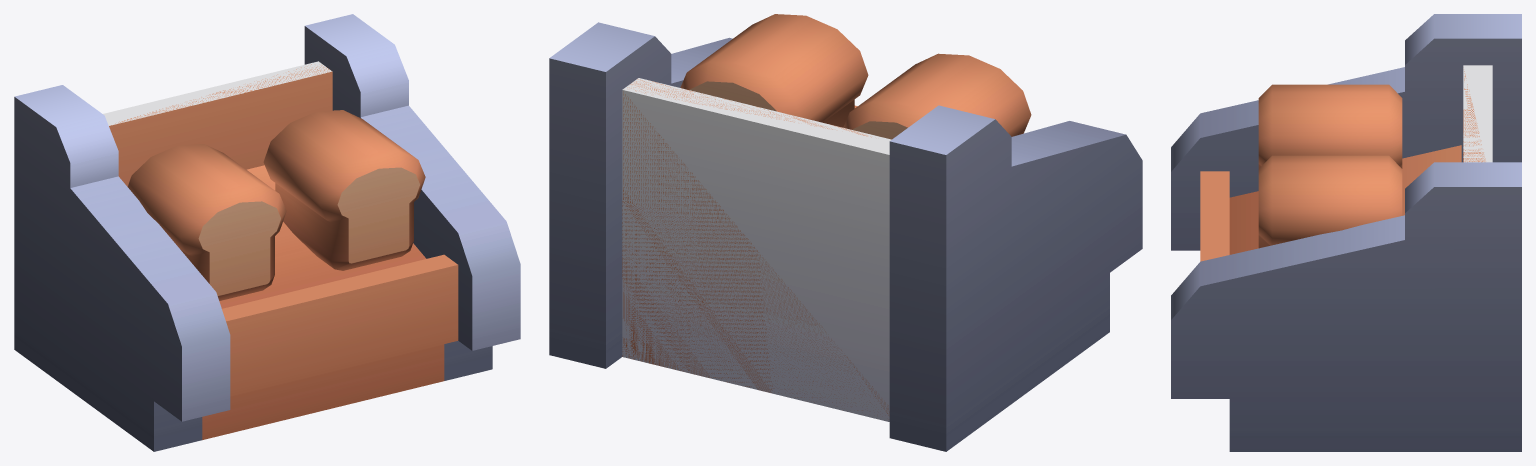
Rendered from display-bread.glb.
3 renders of one model, left to right at view 1: azimuth 30°, elevation 25°; view 2: azimuth 150°, elevation 25°; view 3: azimuth 270°, elevation 25°, orthographic. The views are drawn at different scales.
Parts seen in each view (by area): view 1: display-bread, bread (×2); view 2: display-bread, bread (×2); view 3: display-bread, bread (×2).
Part boxes in pixels (x1=…): display-bread: x1=14, y1=14, x2=520, y2=451; bread (×2): x1=127, y1=110, x2=425, y2=300; display-bread: x1=549, y1=22, x2=1142, y2=451; bread (×2): x1=680, y1=14, x2=1031, y2=139; display-bread: x1=1171, y1=14, x2=1521, y2=451; bread (×2): x1=1258, y1=84, x2=1402, y2=248.
Size of the model in its own units: 0.7 by 0.5 by 0.6.
Materials: 1 (1 with a texture image).
